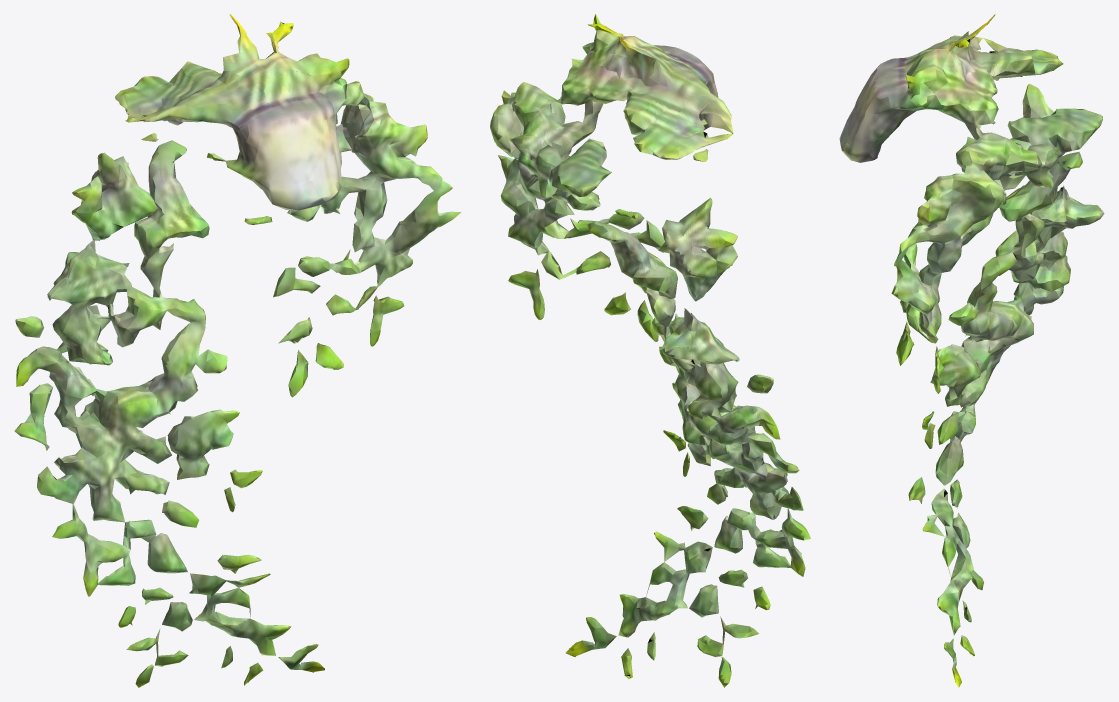
3 views of the same model, side by side, from view 1: azimuth 30°, elevation 25°; view 2: azimuth 150°, elevation 25°; view 3: azimuth 270°, elevation 25° (orthographic). The views are drawn at different scales.
Visible parts, largest first — view 1: world; view 2: world; view 3: world.
Part boxes in pixels (box(x1,y1,x2,y2)): world: box(14, 14, 461, 687); world: box(490, 14, 810, 687); world: box(839, 14, 1104, 687).
Bounding box in the file's own units: 0.6009 × 1.01 × 0.3783.
Materials: 1 (1 with a texture image).
